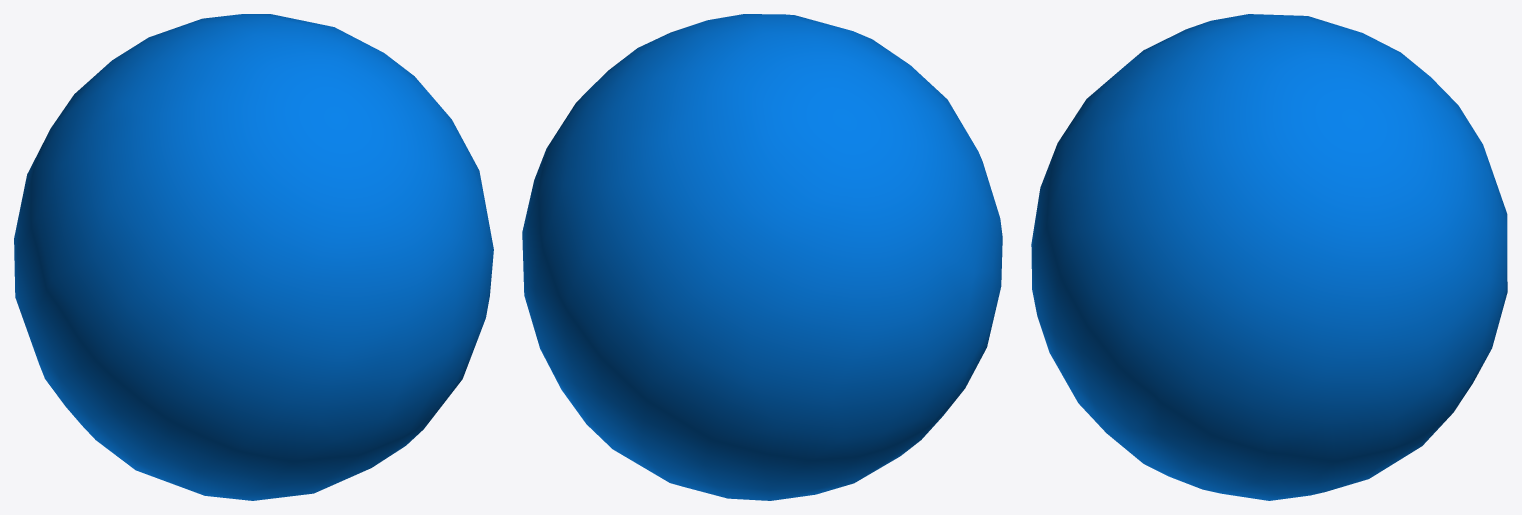
Rendered from GeoVehBodyGlass01.fbx.
The picture shows the model from 3 angles, left to right: view 1: azimuth 30°, elevation 25°; view 2: azimuth 150°, elevation 25°; view 3: azimuth 270°, elevation 25°; orthographic projection.
Parts seen in each view (by area): view 1: GeoVehBodyGlass01_LOD0; view 2: GeoVehBodyGlass01_LOD0; view 3: GeoVehBodyGlass01_LOD0.
Part boxes in pixels (bbox=[...]): GeoVehBodyGlass01_LOD0: bbox=[14, 14, 493, 500]; GeoVehBodyGlass01_LOD0: bbox=[522, 14, 1002, 500]; GeoVehBodyGlass01_LOD0: bbox=[1031, 14, 1507, 500].
Size of what is drawn, in the model's own units: 290 by 296 by 287.
